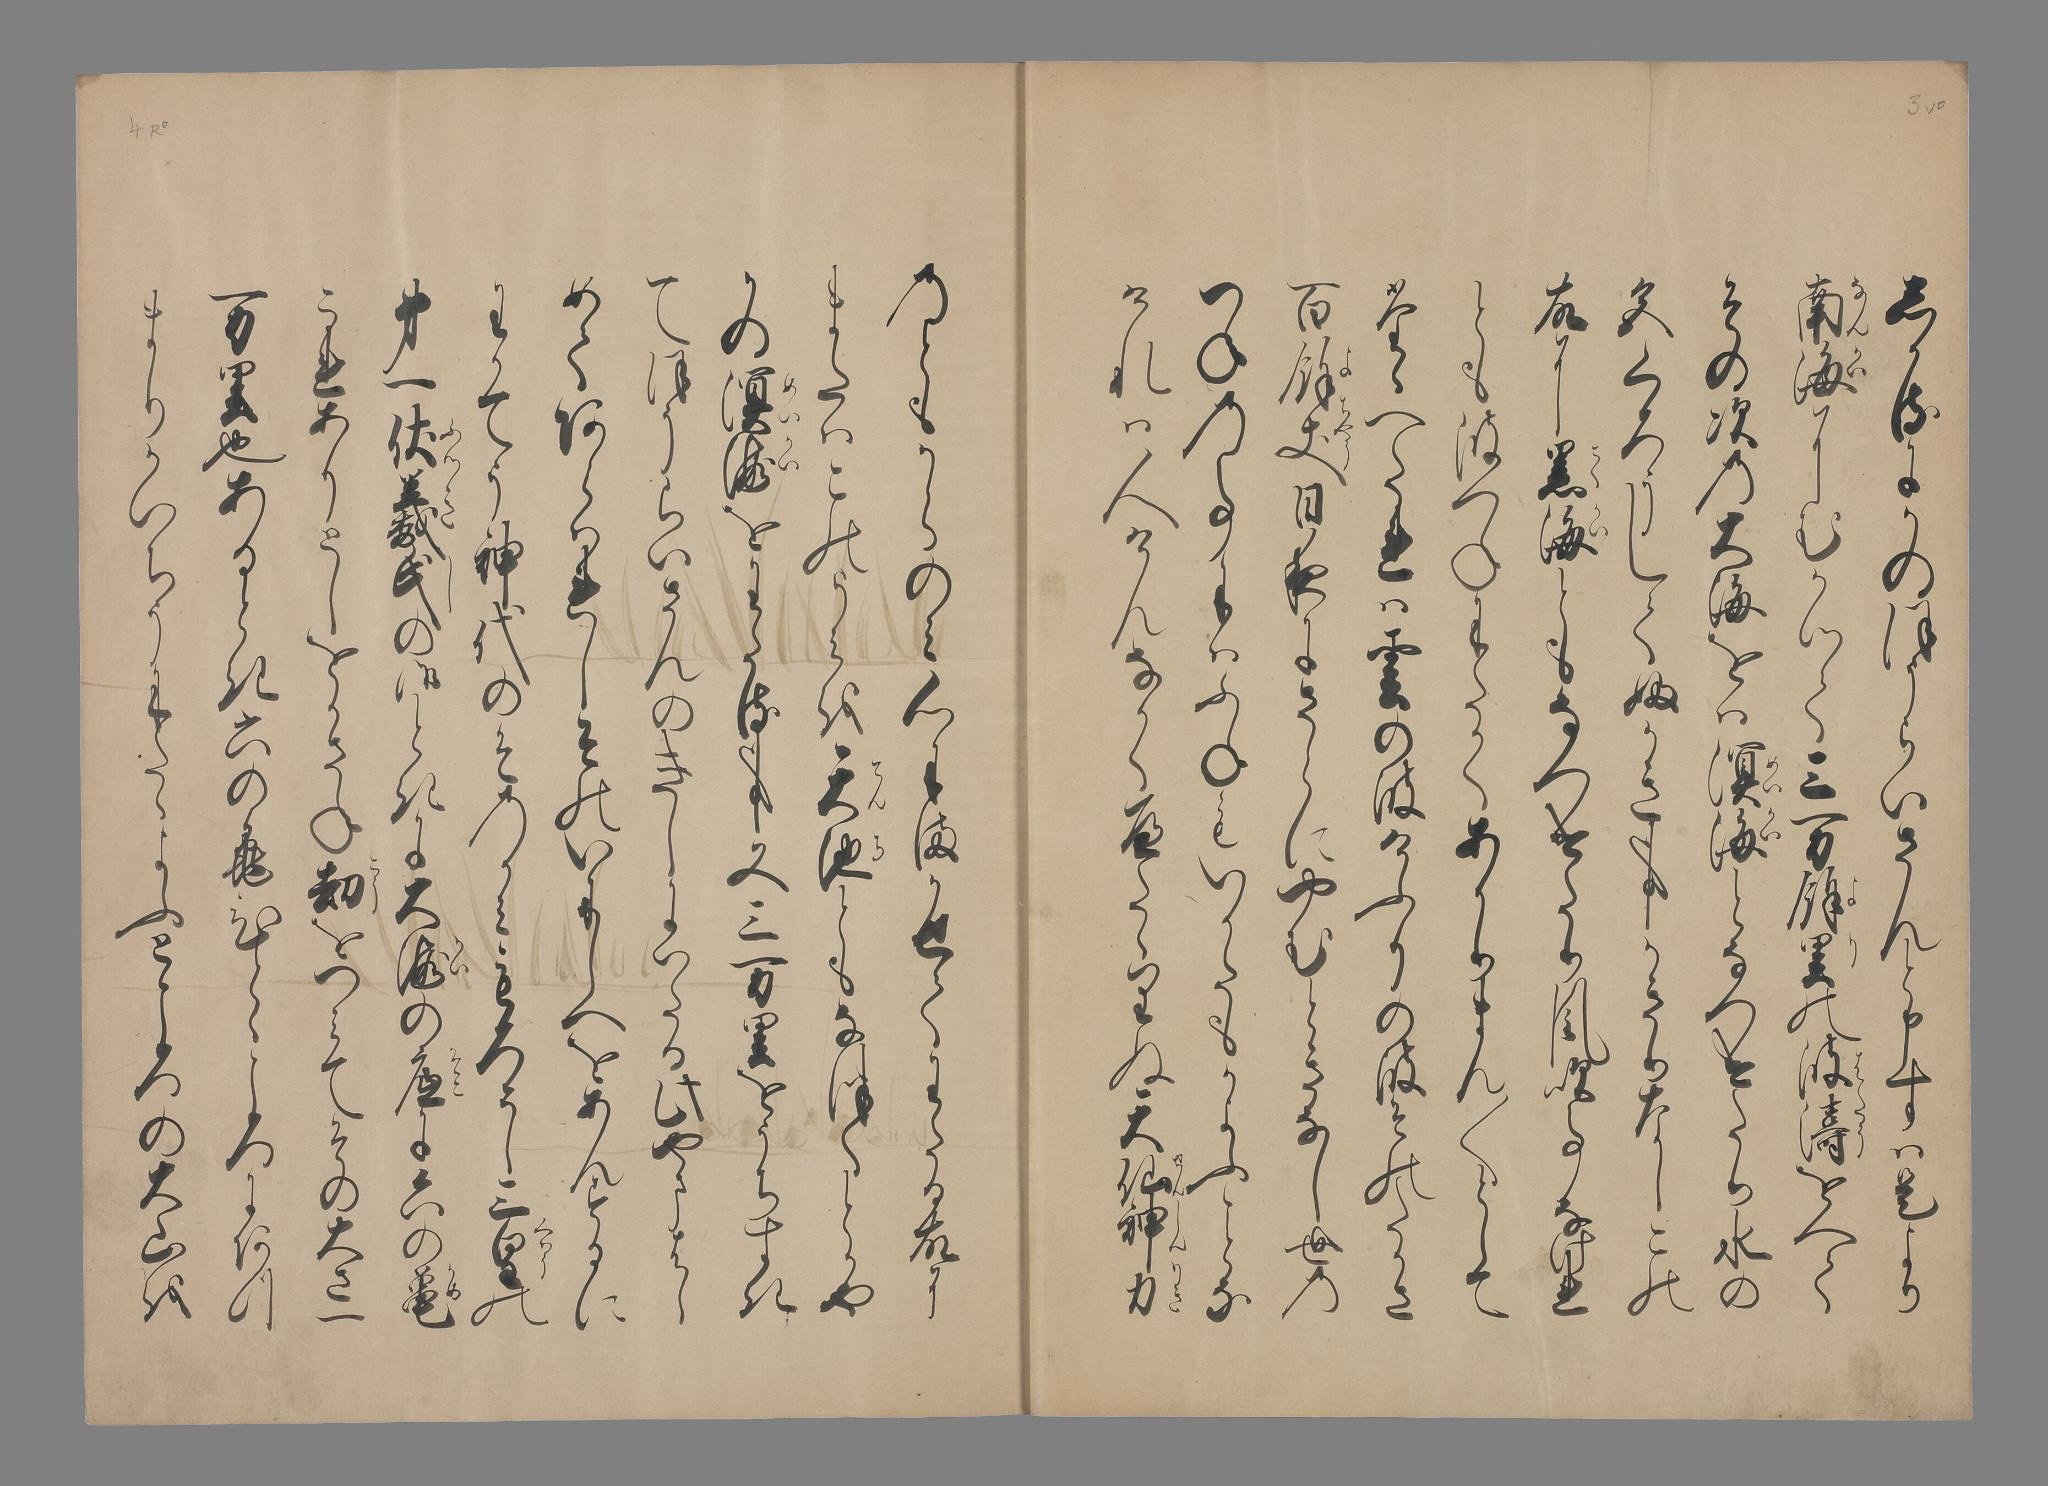MainZone-Character: (814, 742, 894, 830), (1789, 267, 1873, 345), (711, 369, 808, 435), (1277, 402, 1363, 477), (380, 475, 466, 550), (378, 404, 469, 474), (479, 1202, 555, 1284), (399, 1262, 475, 1338), (716, 434, 806, 497), (1700, 741, 1786, 807), (1798, 1098, 1876, 1171), (301, 855, 390, 914), (1705, 809, 1784, 874), (393, 1047, 466, 1116), (1534, 501, 1612, 564), (809, 830, 890, 890), (1784, 348, 1873, 402), (1107, 1146, 1196, 1200), (1283, 339, 1356, 404), (1118, 1262, 1194, 1324), (388, 555, 461, 618), (1536, 432, 1611, 494), (390, 935, 472, 990), (1116, 1202, 1193, 1260), (1794, 1036, 1873, 1092), (1789, 928, 1864, 987), (1787, 871, 1860, 925)
MainZone-Ruby: (774, 372, 806, 431), (1843, 275, 1870, 340), (1851, 1098, 1876, 1165), (1336, 396, 1356, 475), (862, 757, 890, 812), (1166, 1200, 1189, 1262), (534, 1213, 557, 1276), (434, 475, 458, 531), (436, 418, 461, 469), (1166, 1151, 1191, 1198), (1166, 1262, 1188, 1316), (444, 938, 471, 981), (364, 857, 386, 907), (1760, 755, 1786, 799), (447, 1044, 464, 1106), (778, 440, 803, 480), (439, 1262, 464, 1300), (1759, 811, 1786, 846), (1585, 439, 1604, 485), (440, 558, 455, 618), (1588, 502, 1611, 540), (1846, 346, 1868, 381), (1337, 342, 1356, 377), (1843, 930, 1860, 968), (1849, 1049, 1867, 1087), (867, 831, 887, 860), (1846, 871, 1860, 909)
